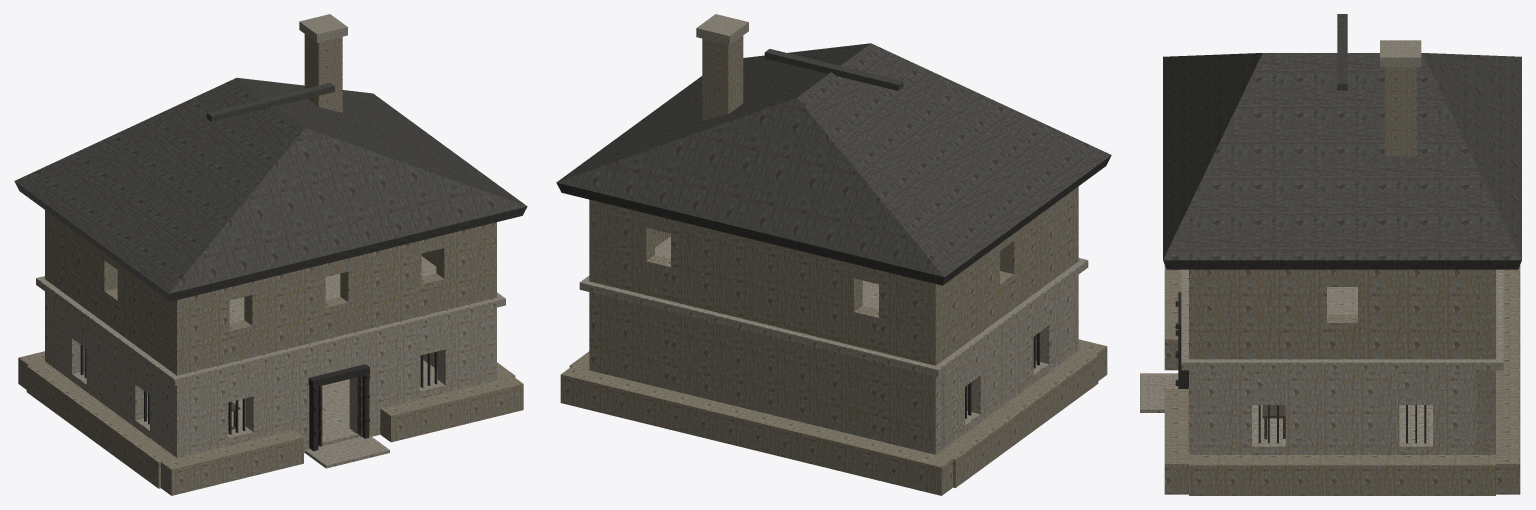
The model's file is prop_hk_bank.glb.
3 views of the same model, side by side, from view 1: azimuth 30°, elevation 25°; view 2: azimuth 150°, elevation 25°; view 3: azimuth 270°, elevation 25° (orthographic). The views are drawn at different scales.
Visible parts, largest first — view 1: building_hk_bank; view 2: building_hk_bank; view 3: building_hk_bank.
Part boxes in pixels (bbox=[...]): building_hk_bank: bbox=[14, 14, 527, 495]; building_hk_bank: bbox=[556, 14, 1111, 495]; building_hk_bank: bbox=[1140, 14, 1521, 495].
Size of the model in its own units: 15.7 by 14.03 by 12.45.
Materials: 6 (6 with a texture image).
